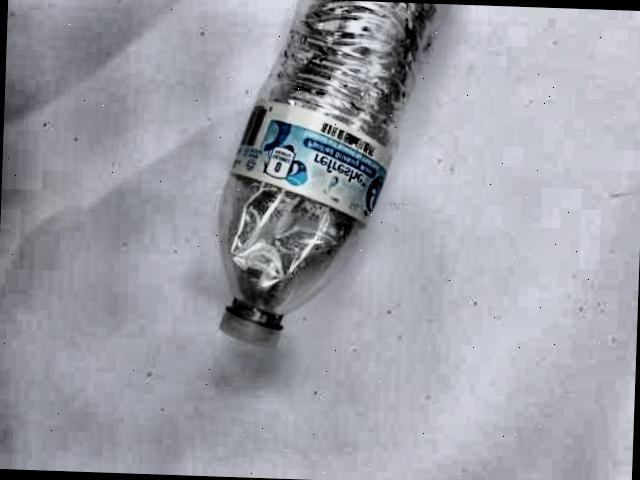Bottles: (189, 0, 464, 371)
